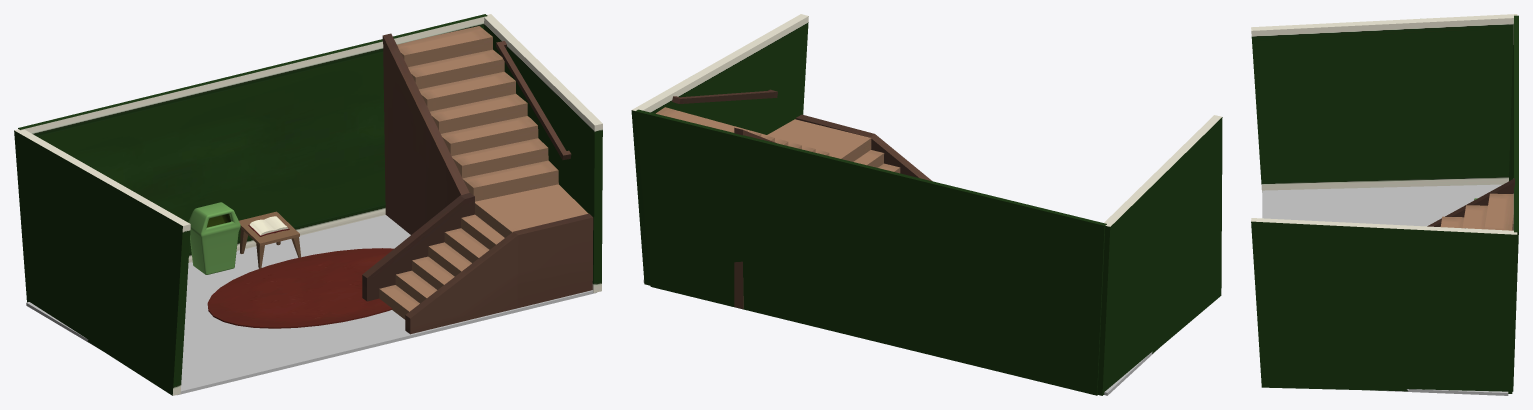
Rendered from Hallway_Final.fbx.
The picture shows the model from 3 angles, left to right: view 1: azimuth 30°, elevation 25°; view 2: azimuth 150°, elevation 25°; view 3: azimuth 270°, elevation 25°; orthographic projection. The views are drawn at different scales.
Visible parts, largest first — view 1: Cube.038, Cube.024, Hallway_Bottom, Cube.048, Cube.044, Circle, Cube.043, Cube.046, Cube.041, Cube.018, Cube.040, Cube.045 (+2 smaller); view 2: Cube.038, Cube.024, Cube.041, Cube.044, Cube.048, Cube.045, Cube.043; view 3: Cube.024, Hallway_Bottom, Cube.038, Cube.048, Cube.043.
Boxes of the visible parts, left/top/right/bottom form: Cube.038: left=18, top=14, right=487, bottom=262; Cube.024: left=14, top=14, right=602, bottom=395; Hallway_Bottom: left=26, top=215, right=596, bottom=395; Cube.048: left=397, top=26, right=558, bottom=201; Cube.044: left=405, top=213, right=593, bottom=334; Circle: left=207, top=248, right=393, bottom=328; Cube.043: left=382, top=33, right=469, bottom=234; Cube.046: left=379, top=214, right=504, bottom=319; Cube.041: left=475, top=184, right=588, bottom=237; Cube.018: left=362, top=193, right=474, bottom=301; Cube.040: left=188, top=202, right=240, bottom=274; Cube.045: left=496, top=41, right=571, bottom=160; Cube.038: left=635, top=109, right=1106, bottom=395; Cube.024: left=631, top=14, right=1222, bottom=395; Cube.041: left=767, top=119, right=871, bottom=161; Cube.044: left=796, top=114, right=932, bottom=181; Cube.048: left=656, top=107, right=829, bottom=155; Cube.045: left=672, top=89, right=777, bottom=103; Cube.043: left=734, top=127, right=776, bottom=308; Cube.024: left=1251, top=14, right=1517, bottom=393; Hallway_Bottom: left=1262, top=184, right=1508, bottom=395; Cube.038: left=1509, top=15, right=1518, bottom=391; Cube.048: left=1440, top=193, right=1513, bottom=230; Cube.043: left=1427, top=178, right=1514, bottom=348.
Size of the model in its own units: 938 by 344 by 481.
